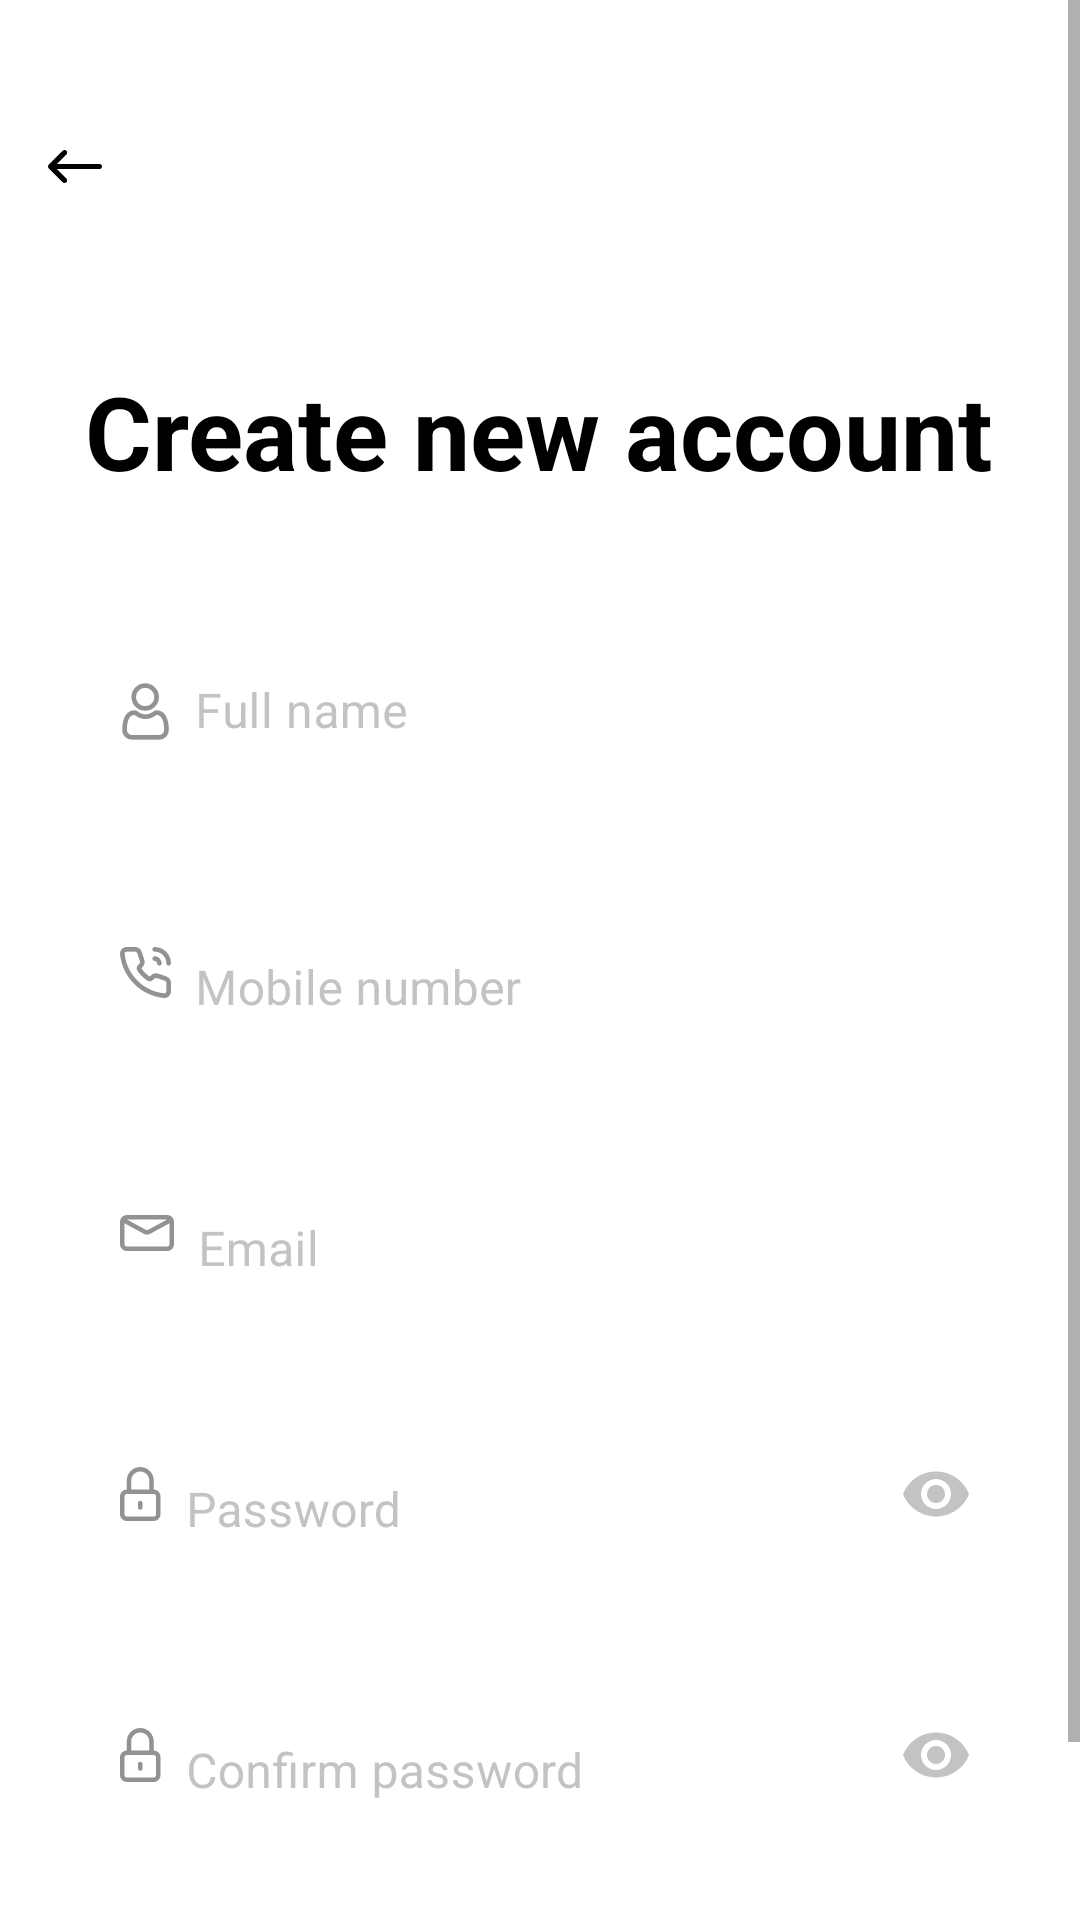

Named icons in this screenshot (1080w x 1920h) and their bounding boxes, Rect(x1, y1, x2, y2):
back: Rect(48, 150, 102, 183)
